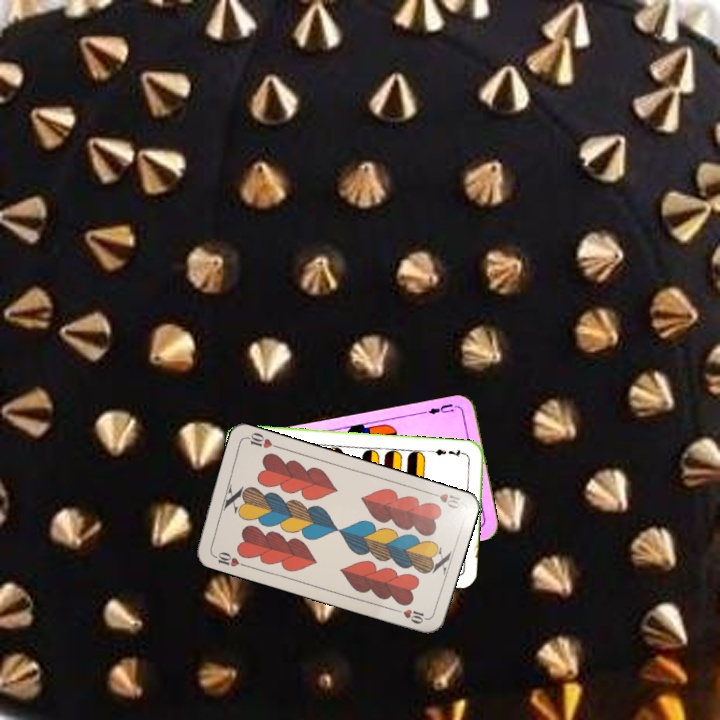E7: (429, 445, 469, 459)
EU: (420, 400, 461, 417)
H10: (424, 488, 463, 511), (208, 548, 248, 570)
